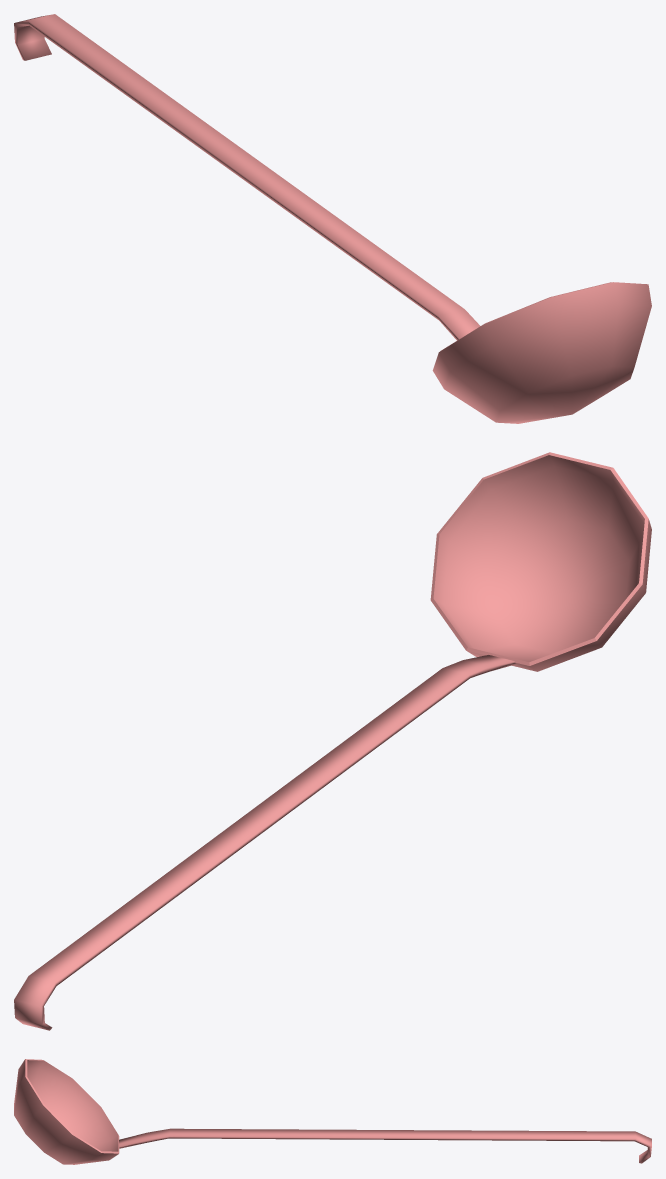
The model's file is TFYK_ladle.FBX.
The picture shows the model from 3 angles, top to bottom: view 1: azimuth 30°, elevation 25°; view 2: azimuth 150°, elevation 25°; view 3: azimuth 270°, elevation 25°; orthographic projection. The views are drawn at different scales.
Visible parts, largest first — view 1: TFYK_ladle; view 2: TFYK_ladle; view 3: TFYK_ladle.
Part boxes in pixels (x1,y1,x2,y2): TFYK_ladle: (14,14,651,423); TFYK_ladle: (14,452,651,1030); TFYK_ladle: (14,1059,651,1164).
Size of the model in its own units: 0.0718 by 0.0551 by 0.3427.
